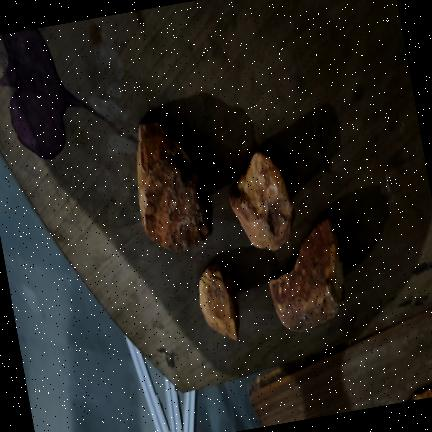Rocks: (137, 121, 212, 249), (270, 218, 344, 330), (230, 151, 295, 249), (199, 262, 239, 339), (412, 388, 431, 400)
